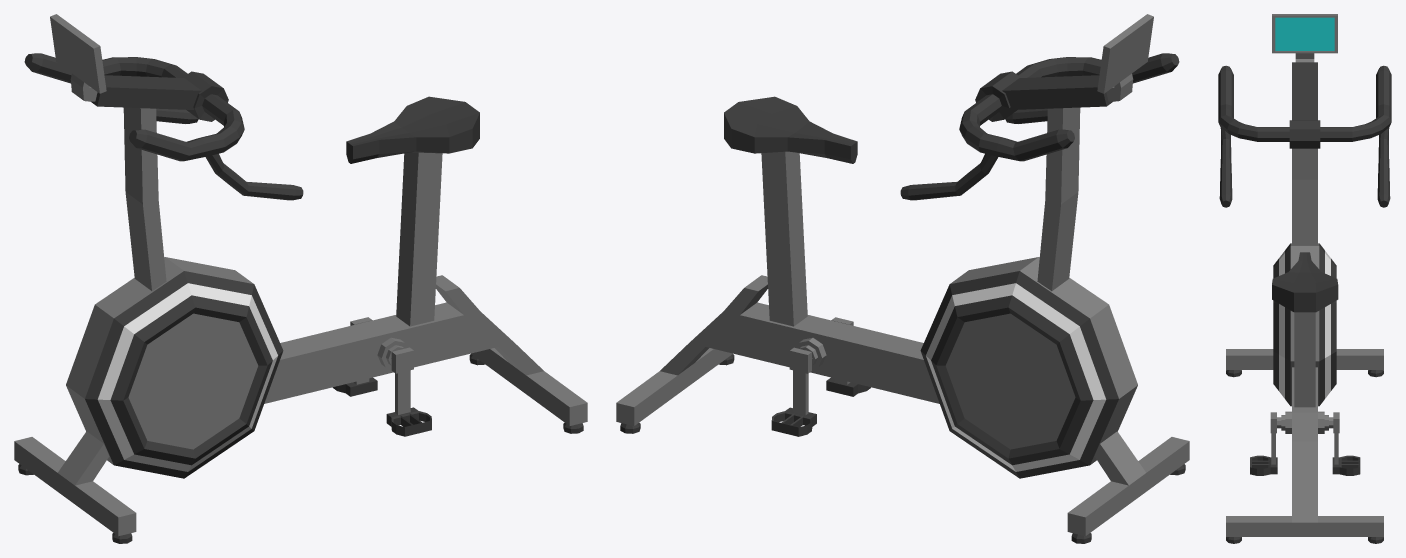
The model's file is Air Bike.fbx.
The picture shows the model from 3 angles, left to right: view 1: azimuth 30°, elevation 25°; view 2: azimuth 150°, elevation 25°; view 3: azimuth 270°, elevation 25°; orthographic projection. The views are drawn at different scales.
Visible parts, largest first — view 1: Air Bike, Air Bike Left Lever, Air Bike Left Pedal; view 2: Air Bike, Air Bike Right Lever, Air Bike Right Pedal; view 3: Air Bike, Air Bike Right Pedal, Air Bike Left Pedal, Air Bike Right Lever, Air Bike Left Lever.
Part boxes in pixels (x1,y1,x2,y2): Air Bike: (14, 14, 587, 543); Air Bike Left Lever: (391, 347, 413, 414); Air Bike Left Pedal: (386, 407, 431, 436); Air Bike: (616, 14, 1189, 543); Air Bike Right Lever: (789, 347, 811, 415); Air Bike Right Pedal: (771, 407, 816, 436); Air Bike: (1218, 14, 1391, 543); Air Bike Right Pedal: (1332, 455, 1360, 475); Air Bike Left Pedal: (1250, 455, 1277, 475); Air Bike Right Lever: (1333, 412, 1339, 464); Air Bike Left Lever: (1270, 412, 1276, 464).
Size of the model in its own units: 520 by 502 by 220.
